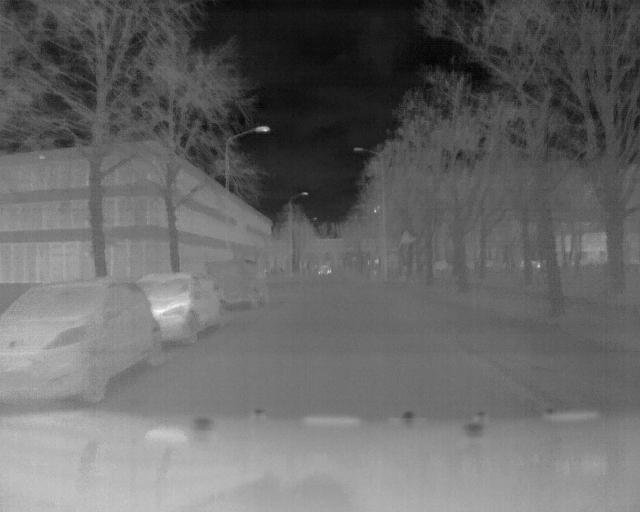car: (1, 275, 166, 403), (139, 271, 228, 344)
